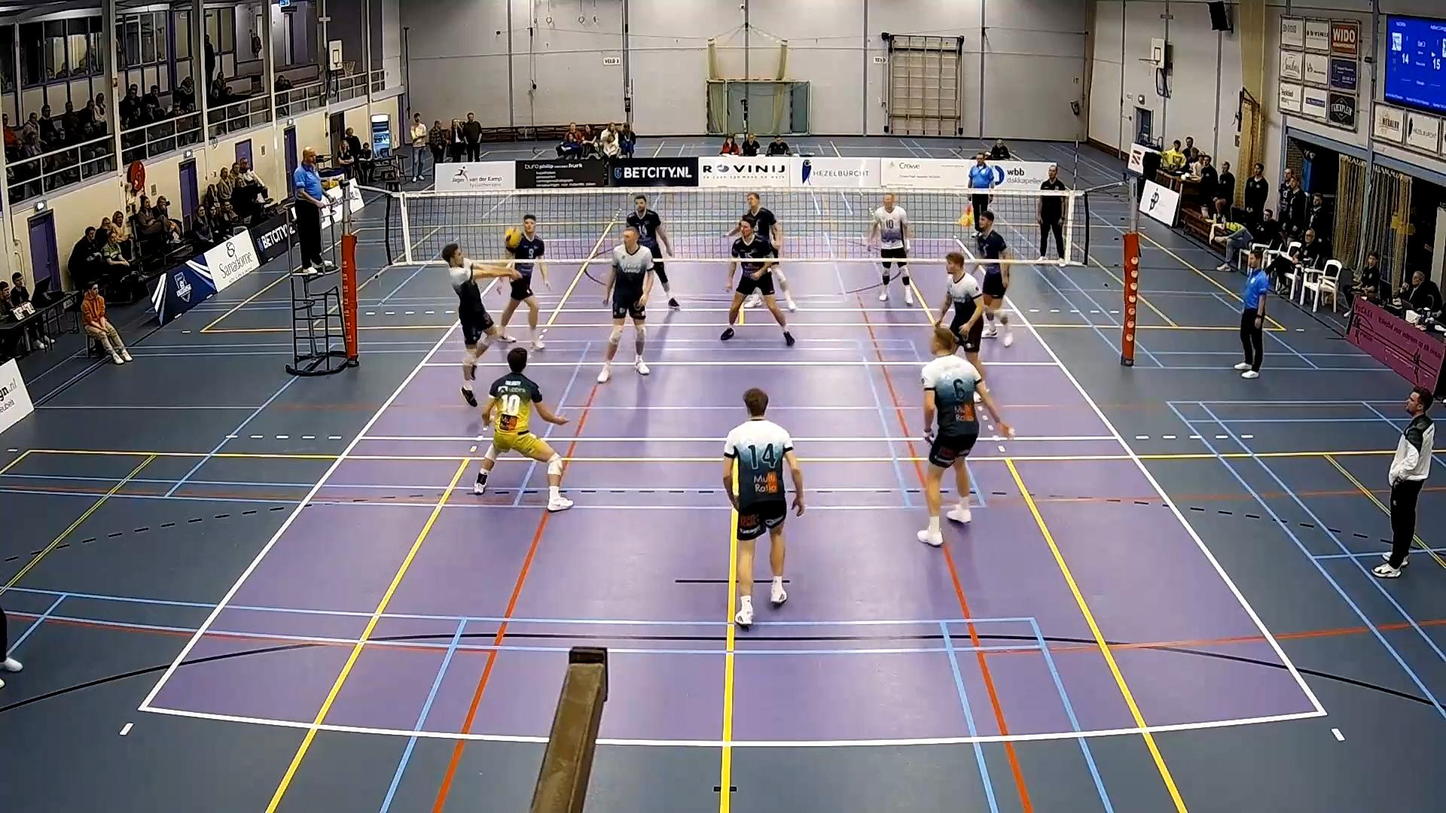difesa: (436, 243, 524, 400)
